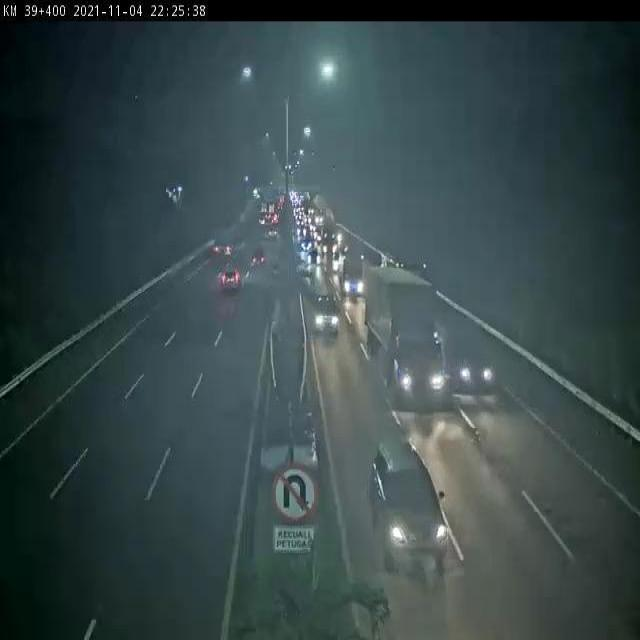car: (372, 440, 450, 569), (449, 312, 497, 399), (339, 246, 372, 306), (311, 293, 345, 339), (216, 266, 243, 298), (249, 248, 266, 273)
truck-s-: (209, 224, 236, 260)
truck-xl-: (366, 262, 446, 414)
